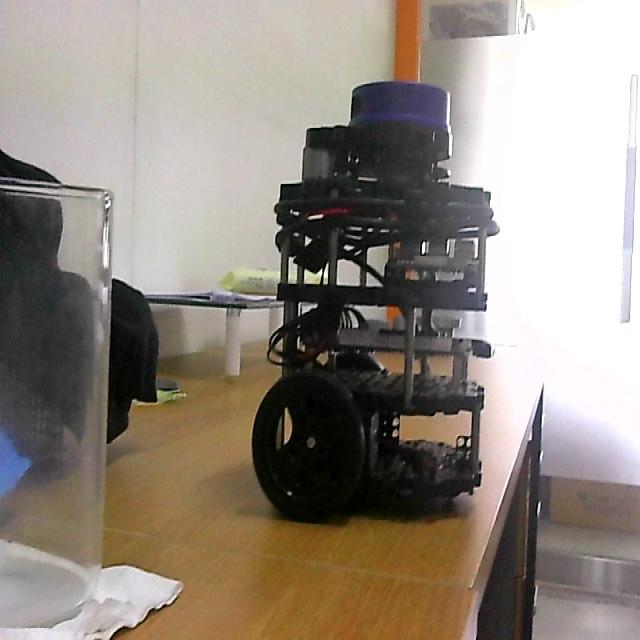turtle: (248, 79, 505, 529)
